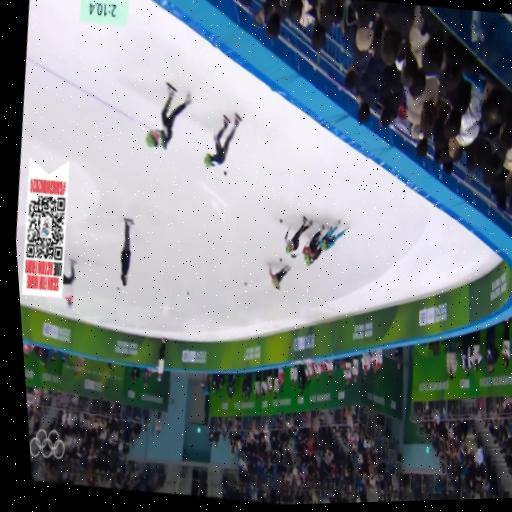Skater: (145, 82, 191, 148), (203, 113, 240, 166), (300, 222, 335, 265), (283, 216, 311, 257), (318, 220, 348, 250), (304, 235, 325, 268), (268, 265, 289, 288)
